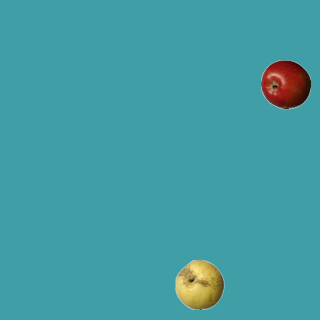Apple Braeburn: (260, 59, 310, 109)
Apple Golden 1: (174, 259, 224, 309)
